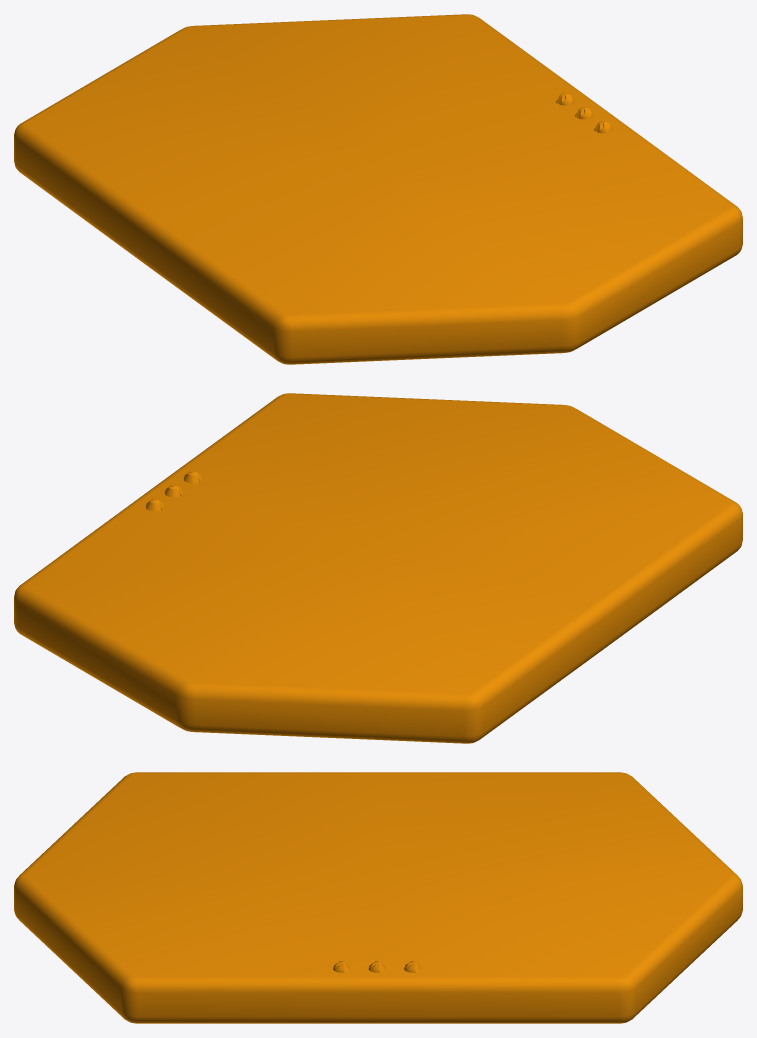
The model's file is keyboard_base_low.fbx.
3 renders of one model, top to bottom at view 1: azimuth 30°, elevation 25°; view 2: azimuth 150°, elevation 25°; view 3: azimuth 270°, elevation 25°, orthographic. The views are drawn at different scales.
Visible parts, largest first — view 1: panel_low; view 2: panel_low; view 3: panel_low, leds_low.
Boxes of the visible parts, left/top/right/bottom form: panel_low: left=14, top=14, right=742, bottom=364; panel_low: left=14, top=393, right=742, bottom=743; panel_low: left=14, top=772, right=742, bottom=1023; leds_low: left=333, top=961, right=420, bottom=972.
Bounding box in the file's own units: 426 × 54.38 × 614.
